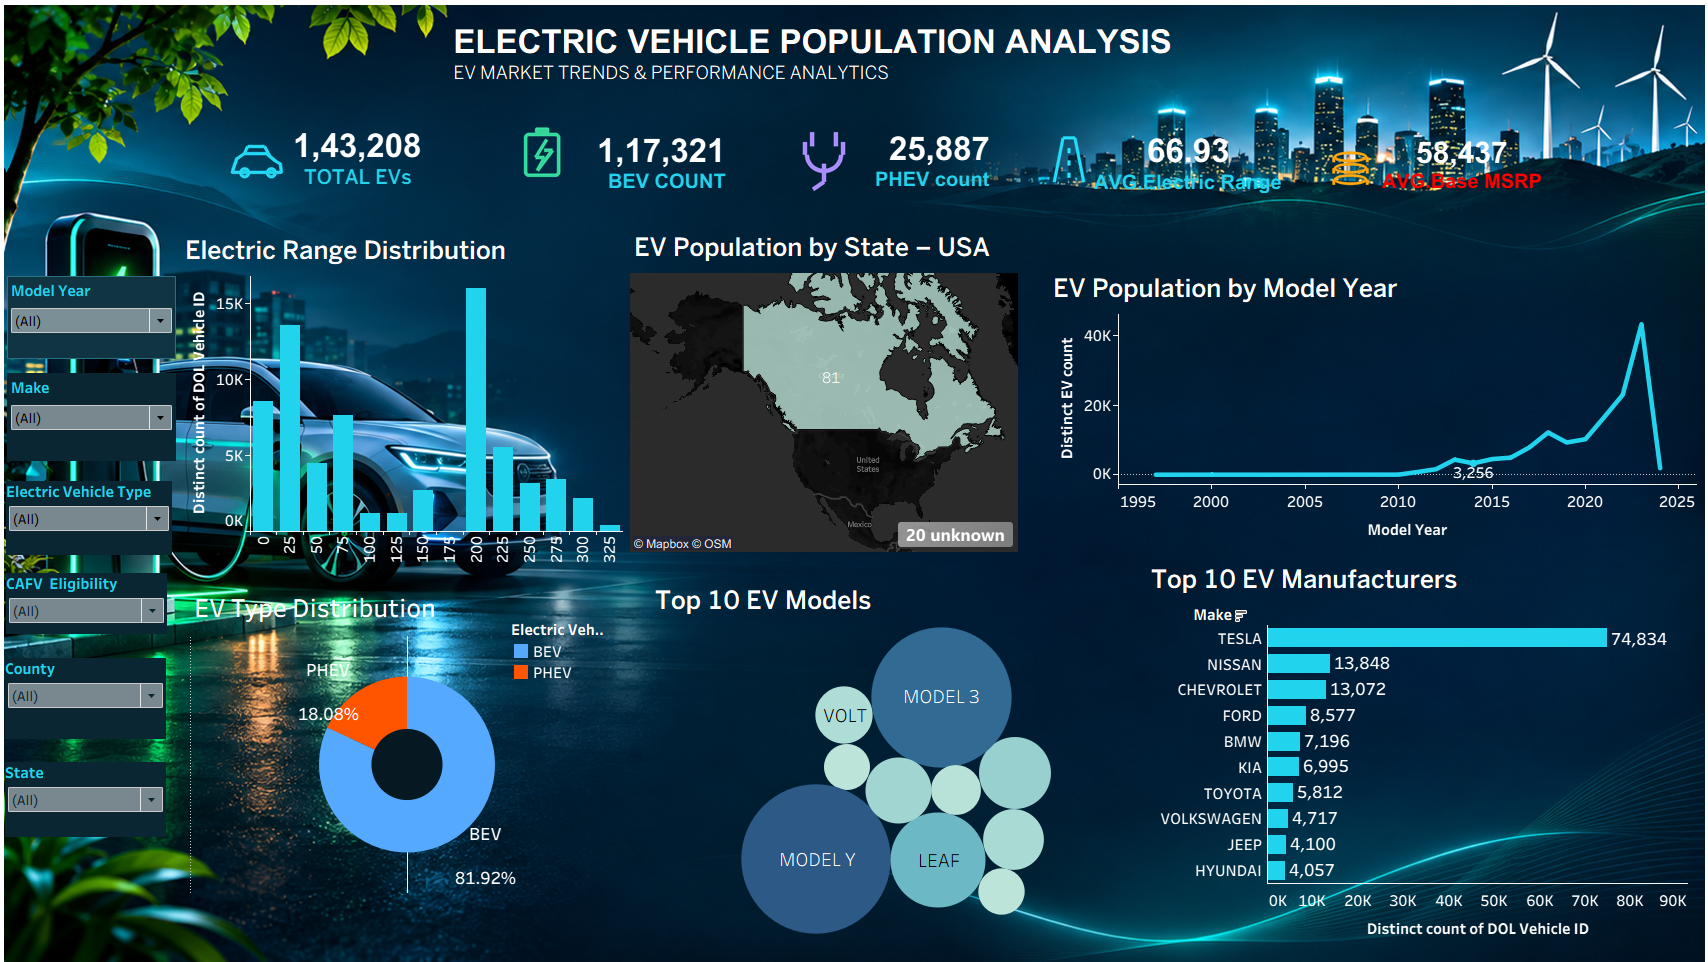

The page's visual inventory and layout, read from the dashboard file:
{"tool":"tableau","page":{"name":"Dashboard 1","canvas":[1000,1000],"units":"permille","ordinal":0},"visuals":[{"type":"text","box":[261.1,18.7,624.4,70.7]},{"type":"worksheet","title":"PHEV Count","mark":"Automatic","box":[440.6,82.7,121.1,75.3]},{"type":"worksheet","title":"BEV Count","mark":"Automatic","box":[287.2,88,128.3,67.3]},{"type":"worksheet","title":"Average Electric Range","mark":"Automatic","box":[589.4,88,160,68]},{"type":"worksheet","title":"Total EVs","mark":"Automatic","box":[136.7,89.3,147.2,58.7]},{"type":"worksheet","title":"Average MSRP","mark":"Automatic","box":[746.1,89.3,148.9,67.3]},{"type":"image","param":"C:/Users/sgish/OneDrive/Desktop/Tablue/EV_Dashboard_Icons_PNG/phev.png","box":[443.3,91.3,54.4,58]},{"type":"image","param":"C:/Users/sgish/OneDrive/Desktop/Tablue/EV_Dashboard_Icons_PNG/bev.png","box":[291.7,97.3,50.6,47.3]},{"type":"image","param":"C:/Users/sgish/OneDrive/Desktop/Tablue/EV_Dashboard_Icons_PNG/range.png","box":[585.6,103.3,51.1,42]},{"type":"image","param":"C:/Users/sgish/OneDrive/Desktop/Tablue/EV_Dashboard_Icons_PNG/vehicle_model.png","box":[136.1,104.7,43.9,43.3]},{"type":"image","param":"C:/Users/sgish/OneDrive/Desktop/Tablue/EV_Dashboard_Icons_PNG/msrp.png","box":[742.2,107.3,53.9,38.7]},{"type":"worksheet","title":"EV Population by County","mark":"Automatic","box":[360.6,170,214.4,216]},{"type":"worksheet","title":"Electric Range Distribution","mark":"Bar","rows":["DOL Vehicle ID"],"cols":["Electric Range (bin)"],"box":[112.2,172,244.4,226.7]},{"type":"worksheet","title":"EV Population by Year","mark":"Line","rows":["DOL Vehicle ID"],"cols":["Model Year"],"box":[592.2,197.3,358.3,185.3]},{"type":"filter","title":"EV Population by Year","param":"[federated.0gyctrv01t90ny19jplbe1it6df2].[none:Model Year (copy)_088544487608320","box":[16.1,202,93.3,55.3]},{"type":"filter","title":"EV Population by Year","param":"[federated.0gyctrv01t90ny19jplbe1it6df2].[none:Make:nk]","box":[16.1,266.7,93.3,58.7]},{"type":"filter","title":"EV Population by Year","param":"[federated.0gyctrv01t90ny19jplbe1it6df2].[none:Electric Vehicle Type:nk]","box":[15.6,338.7,91.7,49.3]},{"type":"worksheet","title":"Top 10 Manufacturers","mark":"Bar","rows":["Make"],"cols":["DOL Vehicle ID"],"box":[646.1,391.3,299.4,257.3]},{"type":"filter","title":"EV Population by Year","param":"[federated.0gyctrv01t90ny19jplbe1it6df2].[none:Clean Alternative Fuel Vehicle (C","box":[15.6,400,88.9,40.7]},{"type":"worksheet","title":"Top 10 EV Models","mark":"Circle","box":[372.2,405.3,271.1,235.3]},{"type":"worksheet","title":"EV Type Distribution","mark":"Pie","cols":["Calculation_0170486424371203","Calculation_0170486424371203"],"box":[117.2,408.7,240,204.7]},{"type":"legend","title":"EV Type Distribution","param":"[federated.0gyctrv01t90ny19jplbe1it6df2].[none:Electric Vehicle Type:nk]","box":[294.4,430.7,51.1,54.7]},{"type":"filter","title":"EV Population by Year","param":"[federated.0gyctrv01t90ny19jplbe1it6df2].[none:County:nk]","box":[15,456.7,88.9,54]},{"type":"filter","title":"EV Population by Year","param":"[federated.0gyctrv01t90ny19jplbe1it6df2].[none:State:nk]","box":[15,526,88.9,50]},{"type":"legend","title":"EV Population by County","param":"[federated.0gyctrv01t90ny19jplbe1it6df2].[ctd:DOL Vehicle ID:qk]","box":[795.6,794.7,85,98]}]}

Visuals, with their boxes on the dashboard's canvas, which has no fixed pixel size, in thousandths of its width and height (x1, y1, x2, y2). These are canvas units, not pixel positions in the 1708x962 screenshot, which may show the page scaled, cropped or inside an application window:
text: <region>261, 19, 886, 89</region>
"PHEV Count" worksheet: <region>441, 83, 562, 158</region>
"BEV Count" worksheet: <region>287, 88, 416, 155</region>
"Average Electric Range" worksheet: <region>589, 88, 749, 156</region>
"Total EVs" worksheet: <region>137, 89, 284, 148</region>
"Average MSRP" worksheet: <region>746, 89, 895, 157</region>
image: <region>443, 91, 498, 149</region>
image: <region>292, 97, 342, 145</region>
image: <region>586, 103, 637, 145</region>
image: <region>136, 105, 180, 148</region>
image: <region>742, 107, 796, 146</region>
"EV Population by County" worksheet: <region>361, 170, 575, 386</region>
"Electric Range Distribution" worksheet (Bar marks): <region>112, 172, 357, 399</region>
"EV Population by Year" worksheet (Line marks): <region>592, 197, 950, 383</region>
"EV Population by Year" filter: <region>16, 202, 109, 257</region>
"EV Population by Year" filter: <region>16, 267, 109, 325</region>
"EV Population by Year" filter: <region>16, 339, 107, 388</region>
"Top 10 Manufacturers" worksheet (Bar marks): <region>646, 391, 946, 649</region>
"EV Population by Year" filter: <region>16, 400, 104, 441</region>
"Top 10 EV Models" worksheet (Circle marks): <region>372, 405, 643, 641</region>
"EV Type Distribution" worksheet (Pie marks): <region>117, 409, 357, 613</region>
"EV Type Distribution" legend: <region>294, 431, 346, 485</region>
"EV Population by Year" filter: <region>15, 457, 104, 511</region>
"EV Population by Year" filter: <region>15, 526, 104, 576</region>
"EV Population by County" legend: <region>796, 795, 881, 893</region>
